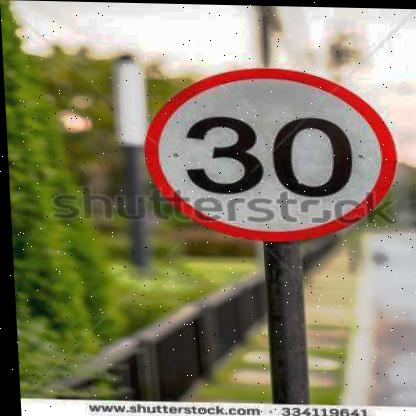Speed Limit -30-: (134, 60, 411, 245)
